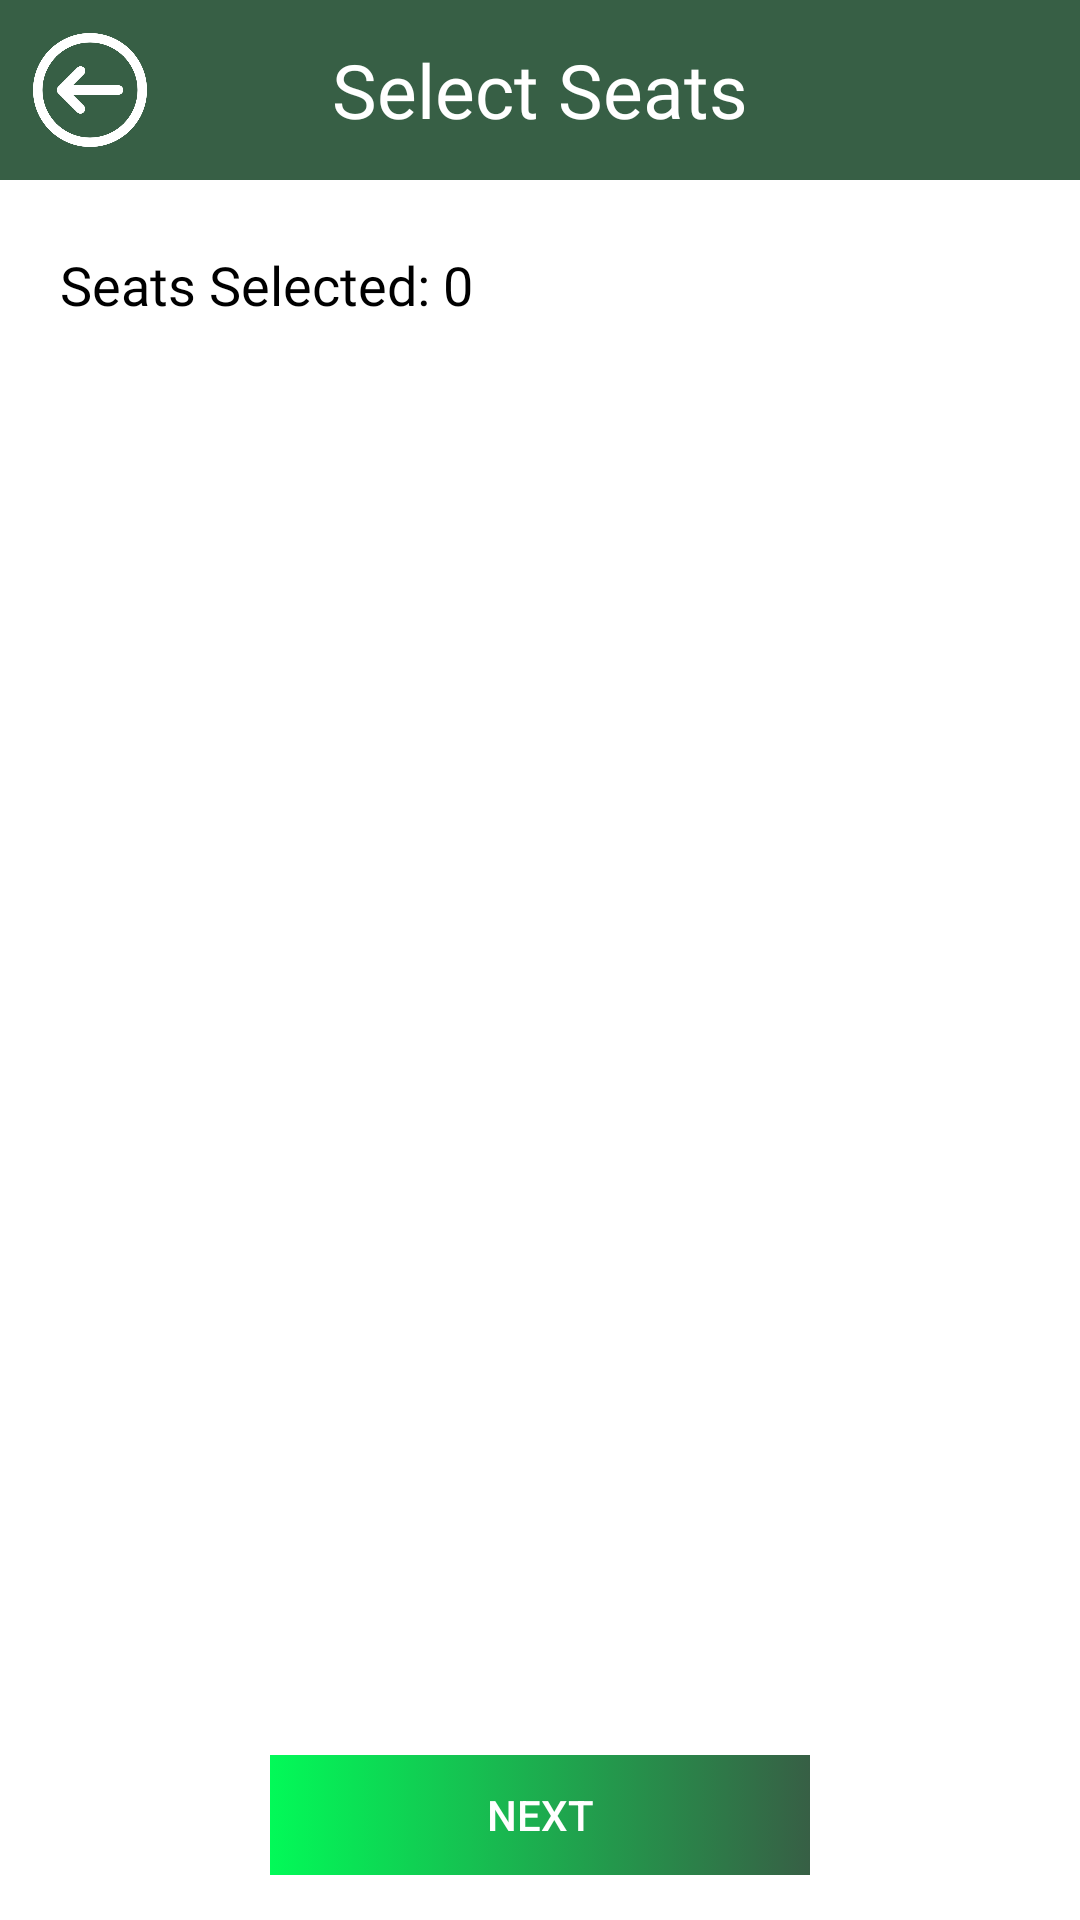

Icons on this 1080 x 1920 Android screen, each with its box as {"x1": x1, "y1": y1, "x2": x2, "y2": y2}:
back: {"x1": 33, "y1": 33, "x2": 147, "y2": 147}
